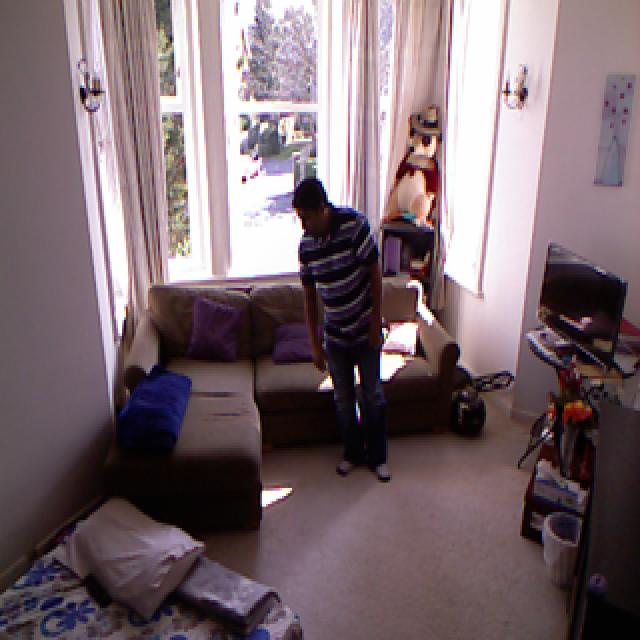standing: (287, 170, 389, 483)
